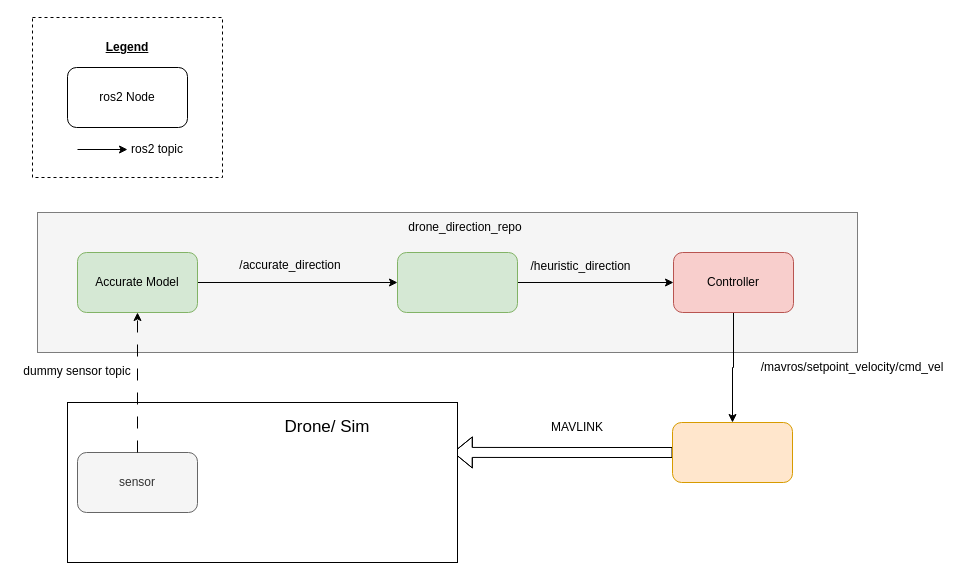
This 974x580 diagram has some shape labels left out. Here are the shapes that lost their labels. From the top down, the centre of each, then its label:
(x=457, y=282): Heuristic Model
(x=732, y=452): MAVROS
